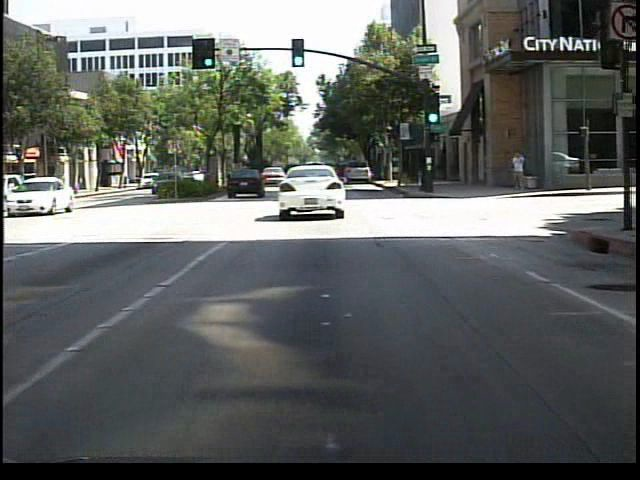person: (509, 150, 529, 197)
